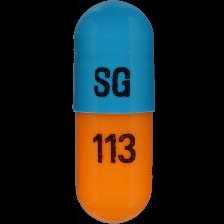31722-903: (0, 0, 224, 224)
